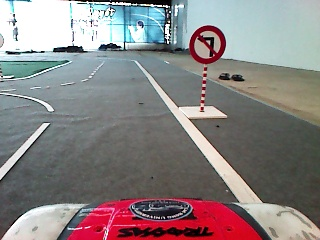ban_left: (189, 25, 226, 64)
